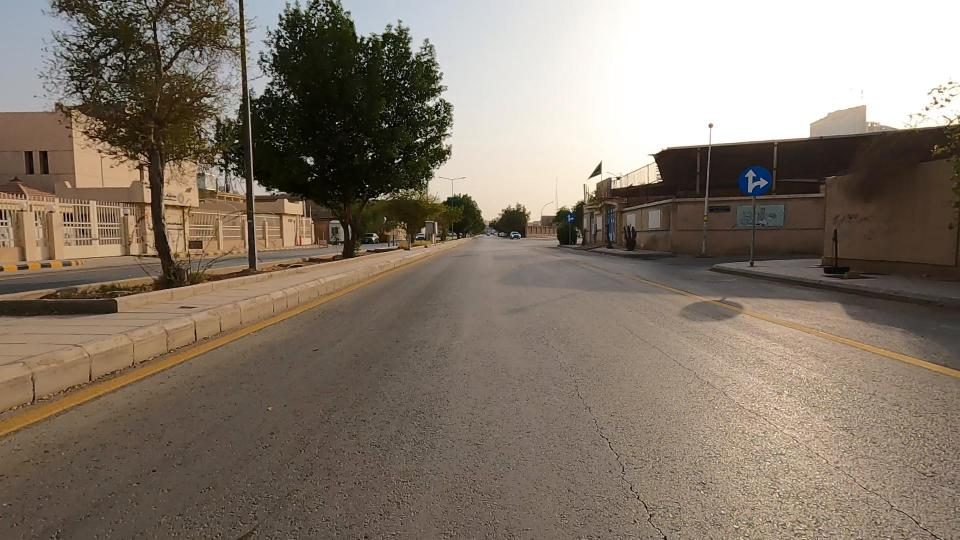BAD_BILLBOARD: (694, 182, 832, 267)
GRAFFITI: (801, 186, 910, 256)
POTHOLES: (540, 332, 687, 540)
